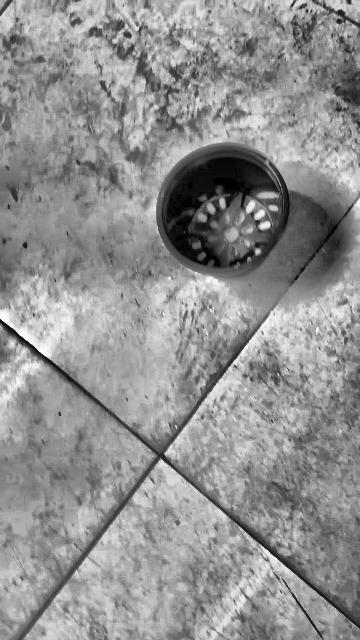pot: (155, 145, 289, 277)
